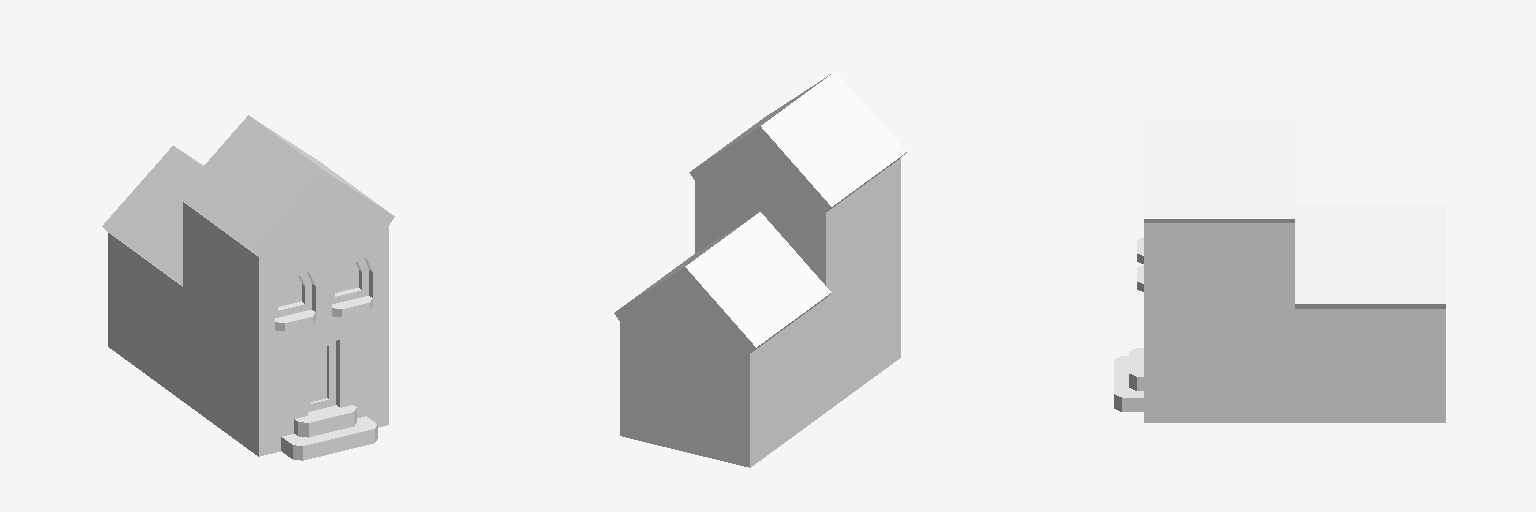
The model's file is building-sample-house-b.obj.
3 renders of one model, left to right at view 1: azimuth 30°, elevation 25°; view 2: azimuth 150°, elevation 25°; view 3: azimuth 270°, elevation 25°, orthographic.
Parts seen in each view (by area): view 1: building-sample-house-b; view 2: building-sample-house-b; view 3: building-sample-house-b.
Part boxes in pixels (x1,y1,x2,y2): building-sample-house-b: (102,115,394,460); building-sample-house-b: (614,71,906,467); building-sample-house-b: (1114,121,1445,422).
Size of the model in its own units: 1.09 by 1.98 by 2.2.